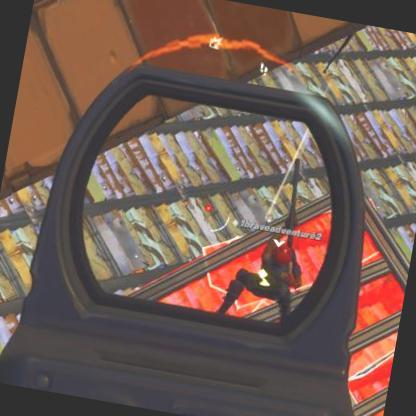person: (218, 226, 308, 328)
